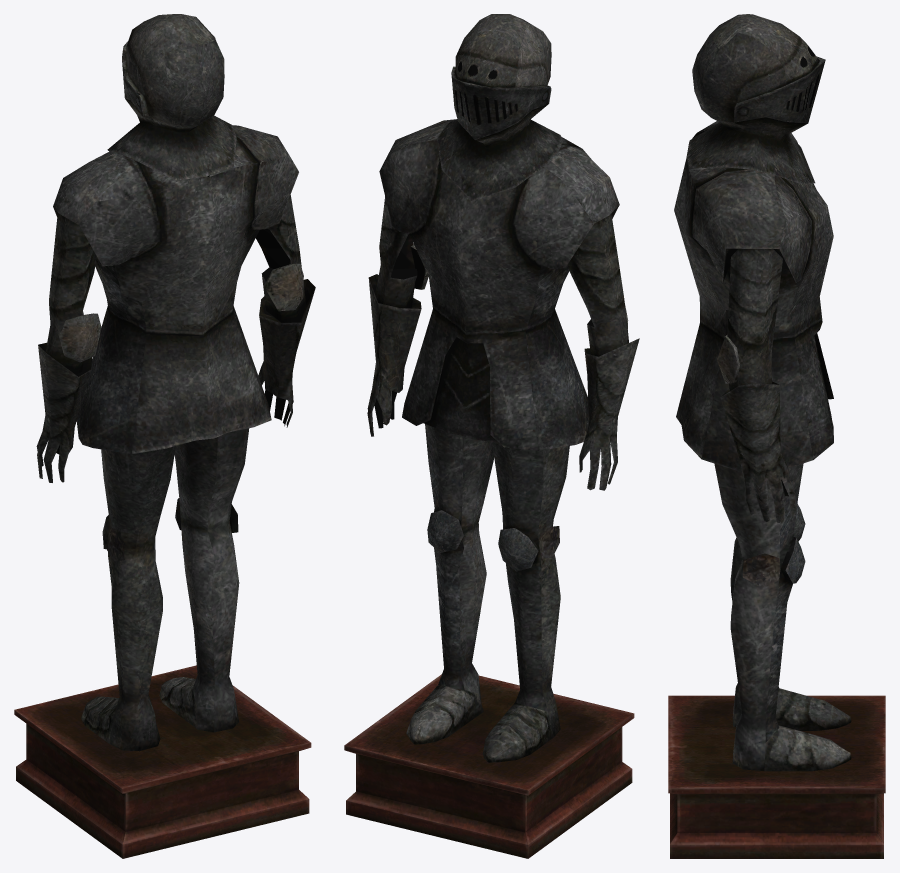
The model's file is armour_nice_complete.dae.
3 renders of one model, left to right at view 1: azimuth 30°, elevation 25°; view 2: azimuth 150°, elevation 25°; view 3: azimuth 270°, elevation 25°, orthographic. The views are drawn at different scales.
Parts seen in each view (by area): view 1: breastplate, podium, Box02, right_boot, head, right_glove; view 2: breastplate, podium, Box02, head, right_boot, right_glove; view 3: breastplate, podium, right_boot, head, right_glove, Box02.
Boxes of the visible parts, bbox=[...] form: breastplate: bbox=[53, 125, 298, 454]; podium: bbox=[14, 665, 311, 858]; Box02: bbox=[36, 212, 175, 751]; right_boot: bbox=[159, 428, 249, 732]; head: bbox=[107, 14, 236, 180]; right_glove: bbox=[256, 195, 315, 427]; breastplate: bbox=[379, 119, 619, 450]; podium: bbox=[344, 674, 634, 858]; Box02: bbox=[483, 214, 639, 762]; head: bbox=[437, 14, 563, 200]; right_boot: bbox=[406, 424, 494, 744]; right_glove: bbox=[367, 196, 428, 436]; breastplate: bbox=[674, 121, 833, 472]; podium: bbox=[668, 695, 885, 858]; right_boot: bbox=[714, 463, 851, 771]; head: bbox=[687, 14, 825, 183]; right_glove: bbox=[717, 248, 795, 523]; Box02: bbox=[730, 504, 851, 730].
Bounding box in the file's own units: 0.9166 × 0.6365 × 2.57.
